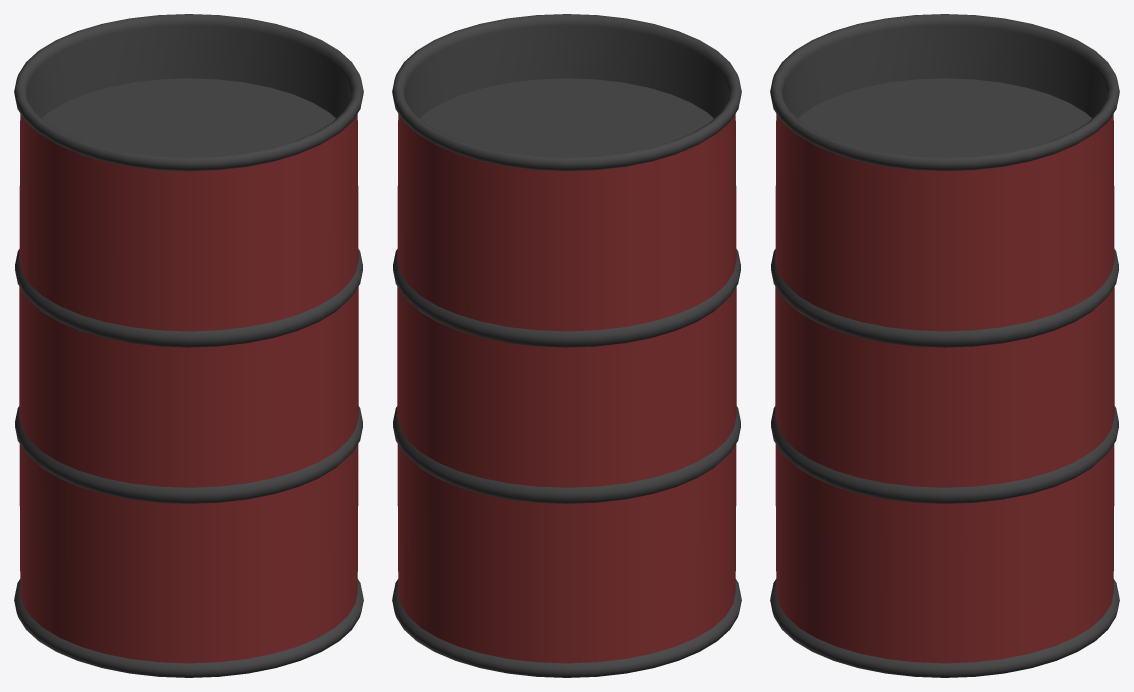
File: kirmizi_barell.fbx
The picture shows the model from 3 angles, left to right: view 1: azimuth 30°, elevation 25°; view 2: azimuth 150°, elevation 25°; view 3: azimuth 270°, elevation 25°; orthographic projection.
Visible parts, largest first — view 1: polySurface7; view 2: polySurface7; view 3: polySurface7.
Part boxes in pixels (bbox=[...]): polySurface7: bbox=[14, 14, 363, 677]; polySurface7: bbox=[392, 14, 741, 677]; polySurface7: bbox=[770, 14, 1119, 677].
Bounding box in the file's own units: 55.72 × 91.44 × 55.71.
